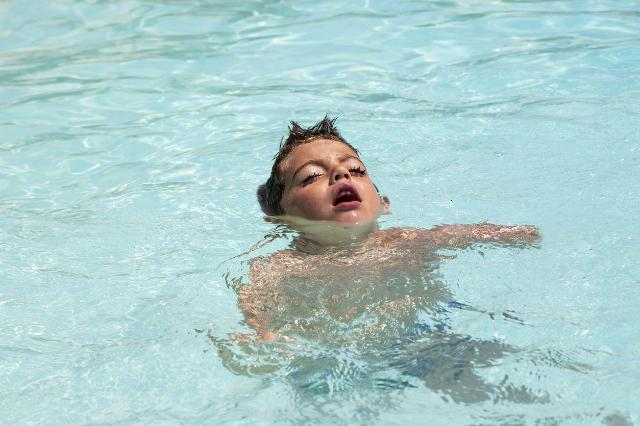drowning: (243, 103, 438, 248)
